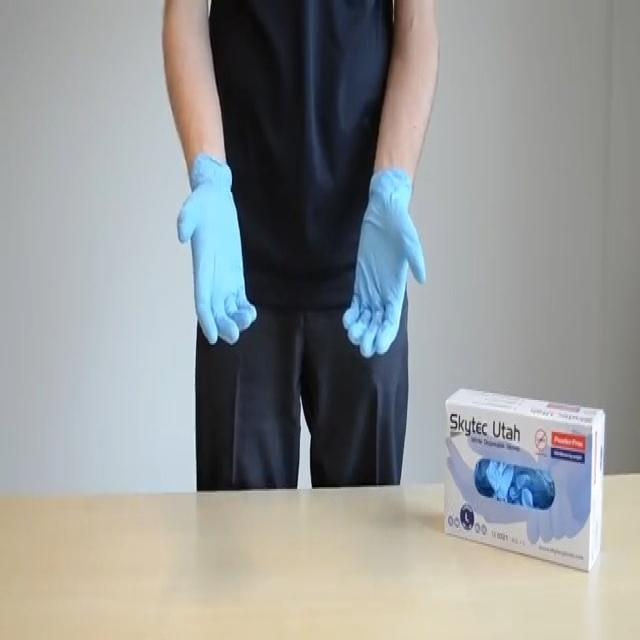Gloves: (336, 167, 431, 353), (176, 156, 262, 361)
